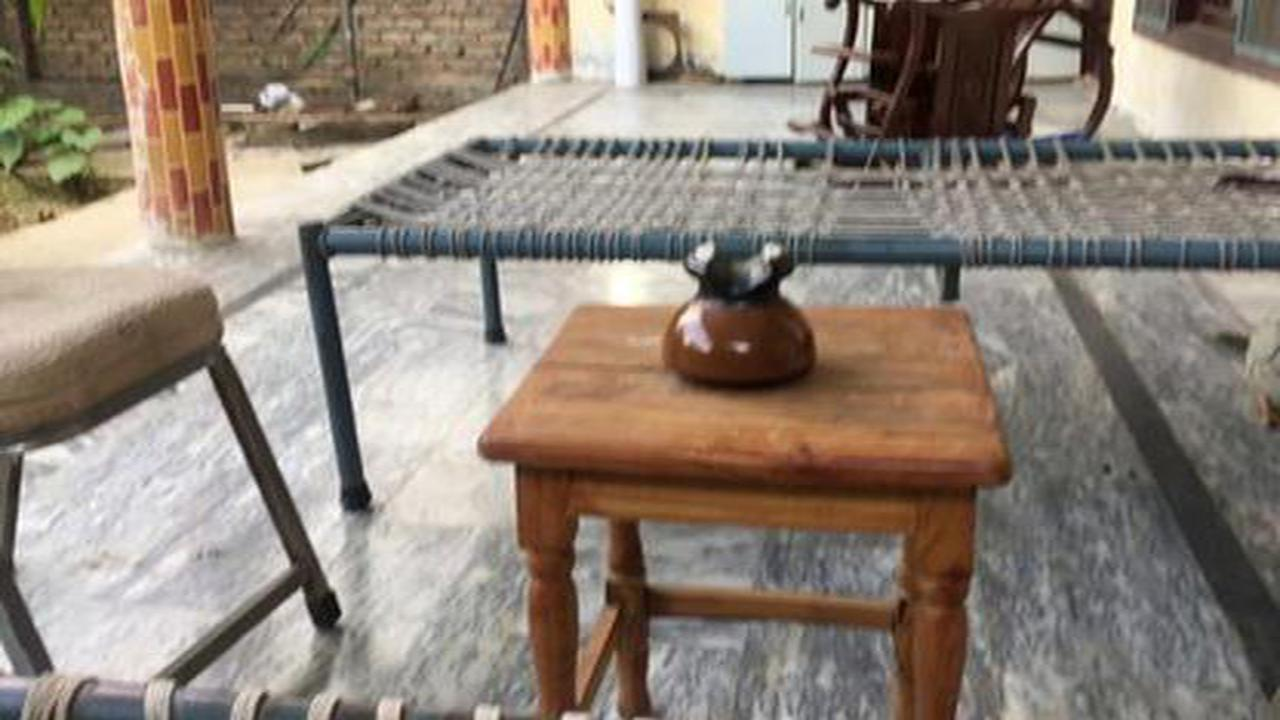insulator_pin: (644, 226, 828, 404)
